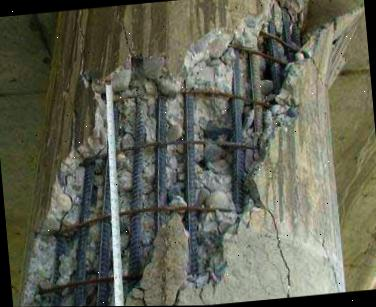spalling: (20, 0, 364, 307)
